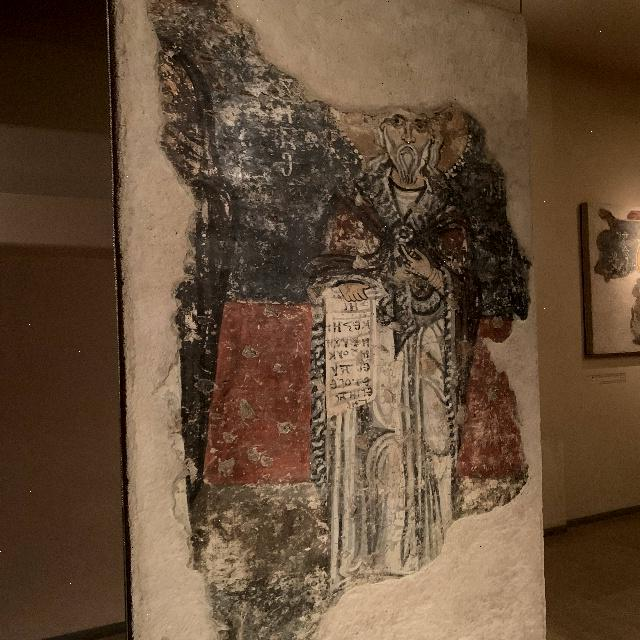aura: (330, 72, 479, 178)
book: (310, 287, 380, 420)
saint: (319, 82, 471, 595)
